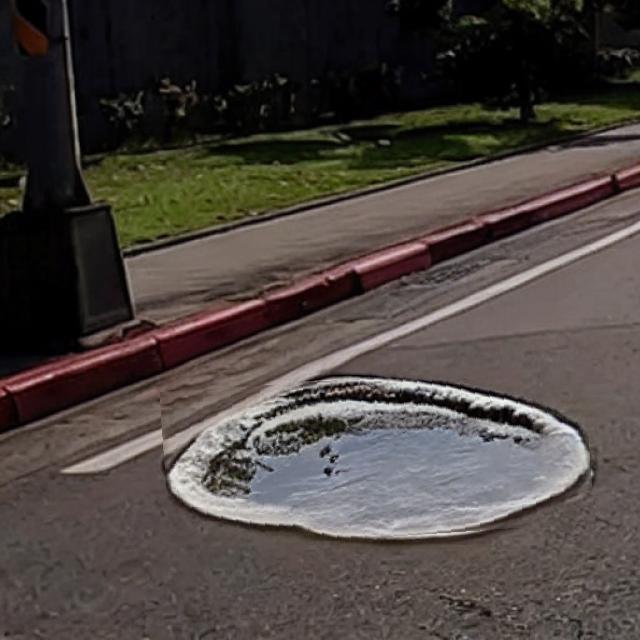puddle: (164, 371, 594, 546)
